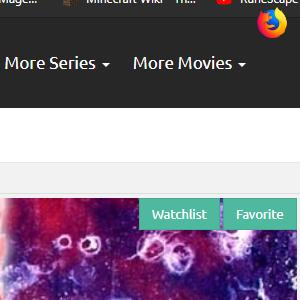firefox: (257, 7, 287, 39)
